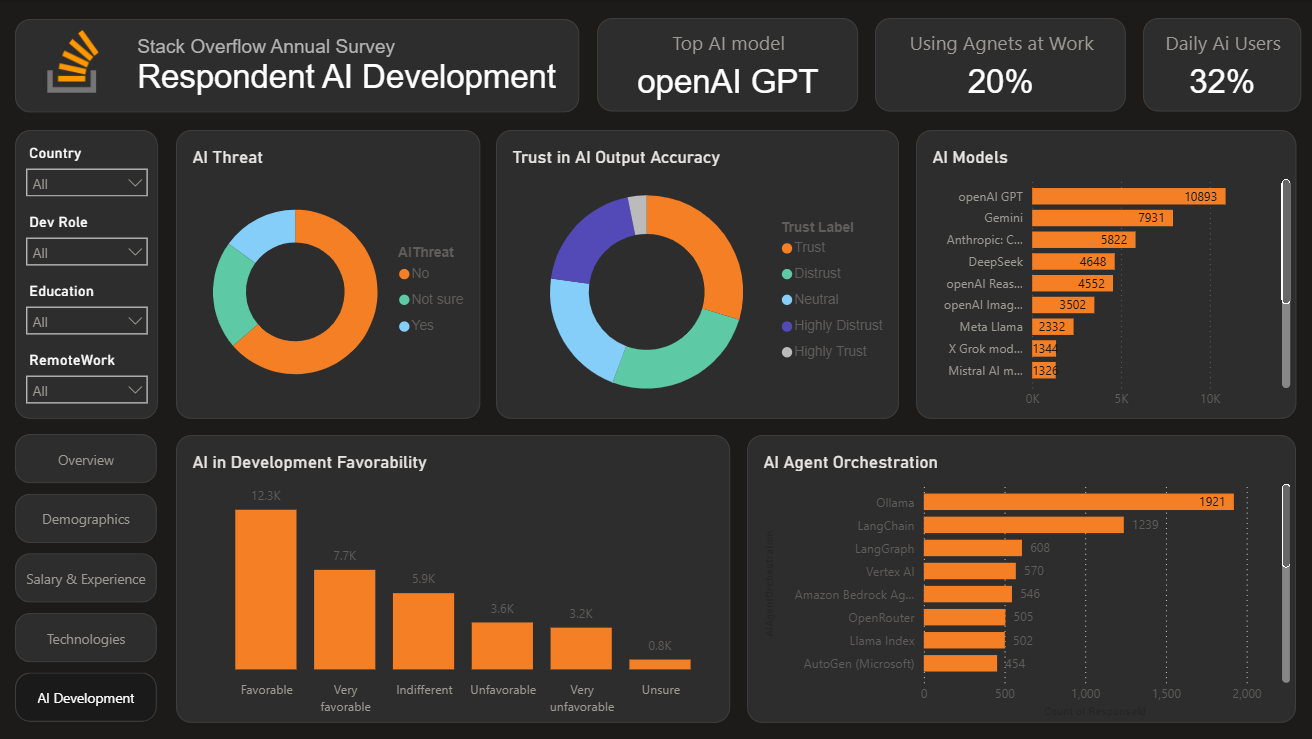

What the dashboard file says about the page in this screenshot:
{"tool":"powerbi","page":{"name":"AI Development","canvas":[1280,720],"ordinal":4},"visuals":[{"type":"donutChart","title":"AI Threat","fields":{"Category":["Survey.AIThreat"],"Y":["Count(Survey.ResponseId)"]},"box":[173,126,296,281],"z":0},{"type":"donutChart","title":"Trust in AI Output Accuracy","fields":{"Y":["Count(Survey.ResponseId)"],"Category":["Survey.Trust Label"]},"box":[484,126,392,281],"z":1000},{"type":"clusteredBarChart","title":"AI Agent Orchestration","fields":{"Category":["AiOrch.AIAgentOrchestration"],"Y":["CountNonNull(AiOrch.ResponseId)"]},"box":[728.9,423.3,534.4,280],"z":2000},{"type":"clusteredBarChart","title":"AI Models","fields":{"Y":["CountNonNull(AiModels.ResponseId)"],"Category":["AiModels.AiModels"]},"box":[893,126,370,281],"z":3000},{"type":"card","title":"Daily Ai Users","fields":{"Values":["Survey.Daily AI Users %"]},"box":[1114.2,17.7,153.9,90.9],"z":4000},{"type":"card","title":"Using Agnets at Work","fields":{"Values":["Survey.Ai agnet at work"]},"box":[853.3,17.8,244.4,91.1],"z":5000},{"type":"clusteredColumnChart","title":"AI in Development Favorability","fields":{"Y":["Count(Survey.ResponseId)"],"Category":["Survey.AISent"]},"box":[173,423,539,280],"z":6000},{"type":"card","title":"Top AI model","fields":{"Values":["AiModels.Top Ai Models"]},"box":[582.2,17.8,254.4,91.1],"z":7000},{"type":"pageNavigator","box":[16.7,422.2,138.9,281.1],"z":12000},{"type":"shape","box":[17,126,139,281],"z":13000},{"type":"slicer","title":"Age Distribution","fields":{"Values":["Survey.Country"]},"box":[17.3,141.5,138.4,50],"z":14000},{"type":"slicer","title":"Age Distribution","fields":{"Values":["Survey.DevType"]},"box":[17.3,208.3,138.4,50.5],"z":15000},{"type":"slicer","title":"Age Distribution","fields":{"Values":["Survey.Education_level"]},"box":[17.3,275.7,138.4,50],"z":16000},{"type":"slicer","title":"Age Distribution","fields":{"Values":["Survey.RemoteWork_Clean"]},"box":[17.3,342.5,138.4,50],"z":17000},{"type":"shape","box":[17,18,549,91],"z":18000},{"type":"textbox","box":[130,29,436,73],"z":19000},{"type":"image","box":[38.1,28.9,70.1,60.8],"z":20000}]}

Visuals, with their boxes in screenshot pixels (x1, y1, x2, y2), scaled from the page's 1280x720 canvas onto the 1312x739 screenshot:
"AI Threat" donutChart: 177:129:481:418
"Trust in AI Output Accuracy" donutChart: 496:129:898:418
"AI Agent Orchestration" clusteredBarChart: 747:434:1295:722
"AI Models" clusteredBarChart: 915:129:1295:418
"Daily Ai Users" card: 1142:18:1300:111
"Using Agnets at Work" card: 875:18:1125:112
"AI in Development Favorability" clusteredColumnChart: 177:434:730:722
"Top AI model" card: 597:18:858:112
pageNavigator: 17:433:159:722
shape: 17:129:160:418
"Age Distribution" slicer: 18:145:160:197
"Age Distribution" slicer: 18:214:160:266
"Age Distribution" slicer: 18:283:160:334
"Age Distribution" slicer: 18:352:160:403
shape: 17:18:580:112
textbox: 133:30:580:105
image: 39:30:111:92
